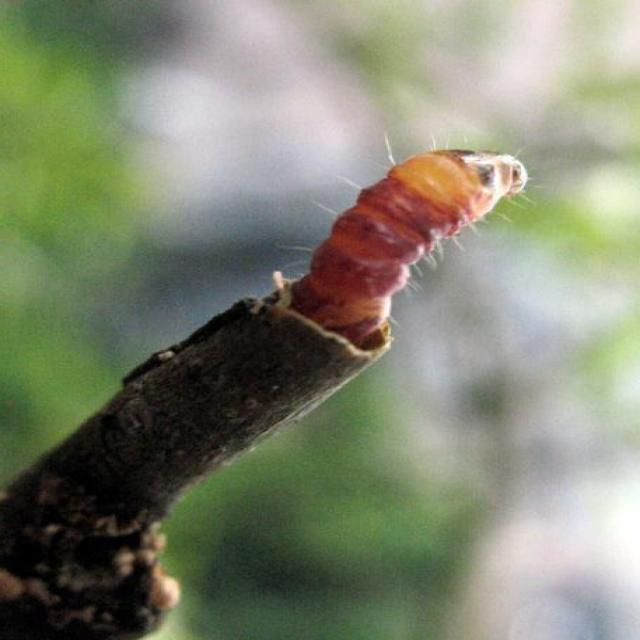peach borer: (274, 153, 533, 344)
